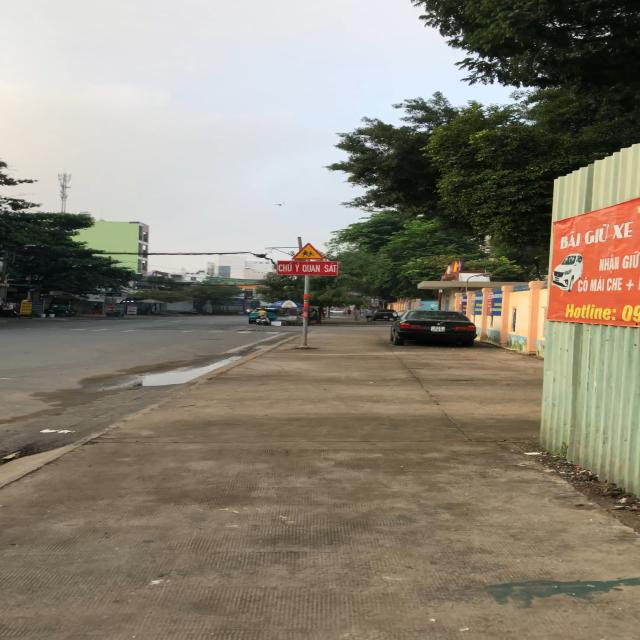Bien bao tre em: (290, 241, 327, 260)
